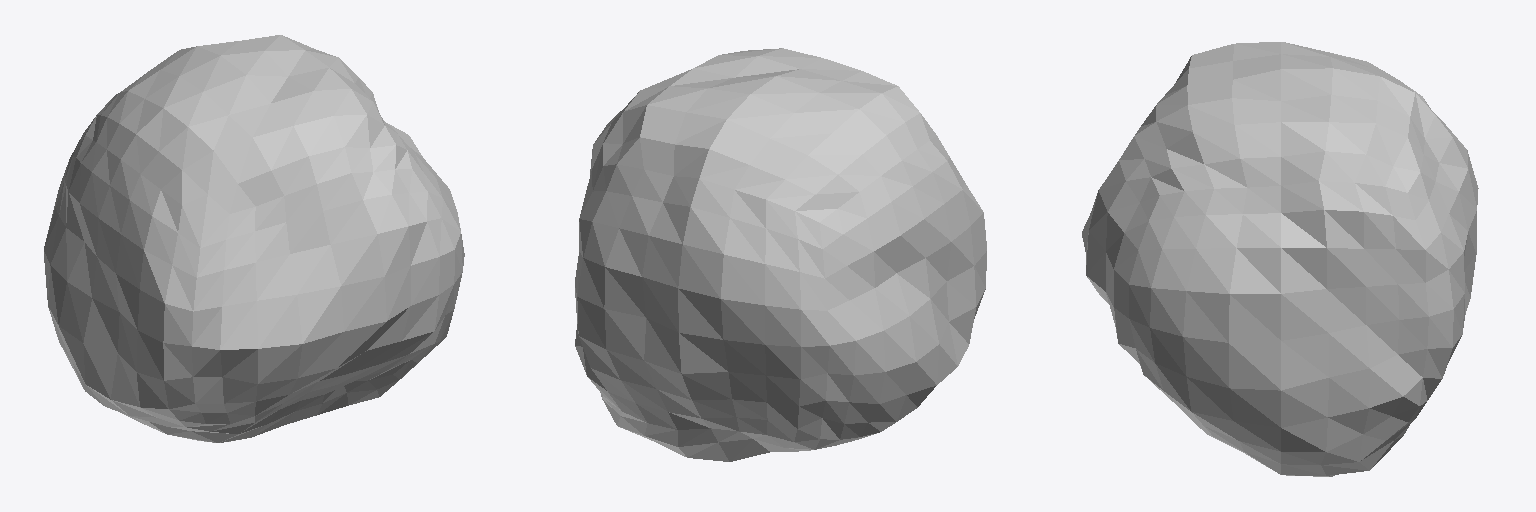
3 views of the same model, side by side, from view 1: azimuth 30°, elevation 25°; view 2: azimuth 150°, elevation 25°; view 3: azimuth 270°, elevation 25° (orthographic).
Visible parts, largest first — view 1: defaultMaterial.002; view 2: defaultMaterial.002; view 3: defaultMaterial.002.
Part boxes in pixels (x1,y1,x2,y2): defaultMaterial.002: (44,35,464,442); defaultMaterial.002: (575,48,986,461); defaultMaterial.002: (1082,42,1478,476).
Bounding box in the file's own units: 7.58 × 7.69 × 7.54.